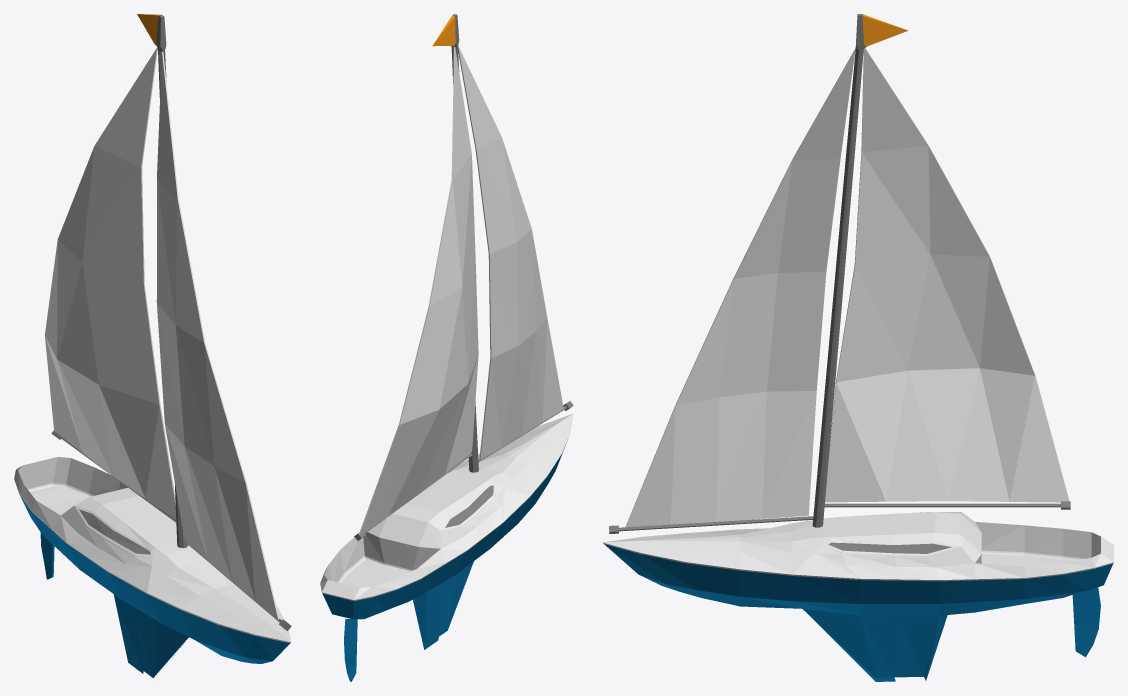
The model's file is boat.glb.
3 renders of one model, left to right at view 1: azimuth 30°, elevation 25°; view 2: azimuth 150°, elevation 25°; view 3: azimuth 270°, elevation 25°, orthographic. The views are drawn at different scales.
Visible parts, largest first — view 1: Sailboat; view 2: Sailboat; view 3: Sailboat.
Boxes of the visible parts, x1,y1,x2,y2 form: Sailboat: (14,14,291,677); Sailboat: (320,14,573,681); Sailboat: (602,14,1113,681).
Bounding box in the file's own units: 3.13 × 18.39 × 12.79.
1 material, 1 textured.
